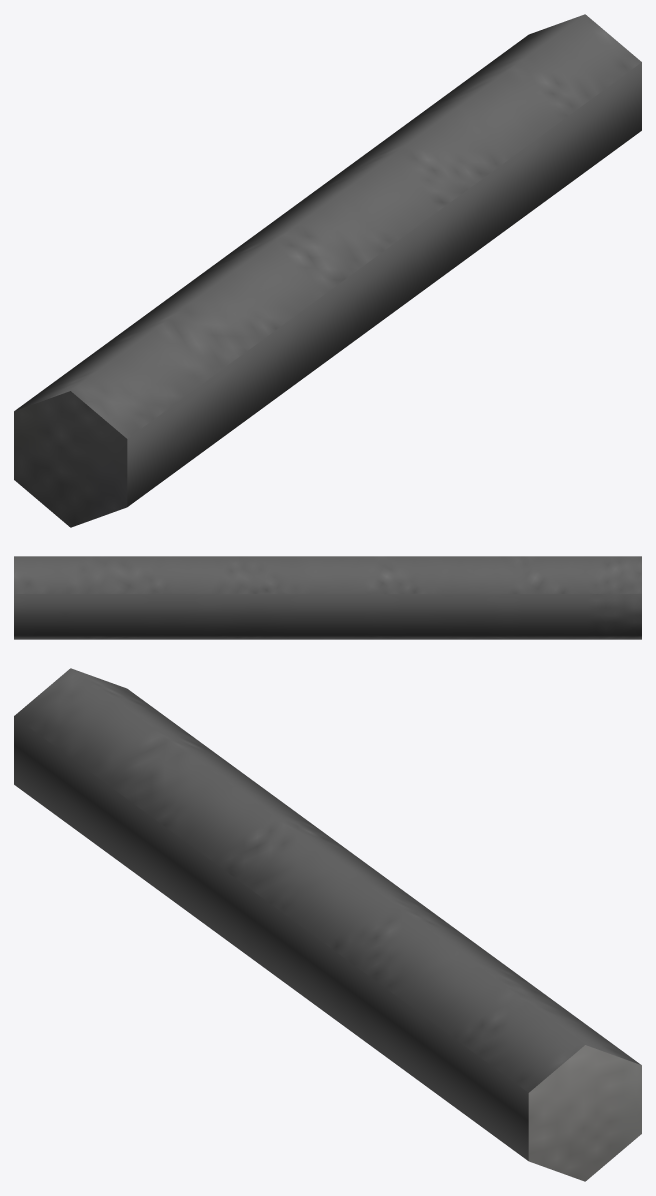
File: iron-stick.glb
3 views of the same model, one above another, from view 1: azimuth 30°, elevation 25°; view 2: azimuth 150°, elevation 25°; view 3: azimuth 270°, elevation 25° (orthographic). The views are drawn at different scales.
Parts seen in each view (by area): view 1: iron-stick; view 2: iron-stick; view 3: iron-stick.
Boxes of the visible parts, box(x1,y1,x2,y2) form: iron-stick: box(14, 14, 641, 527); iron-stick: box(14, 556, 641, 639); iron-stick: box(14, 668, 641, 1181).
Size of the model in its own units: 0.2789 by 0.044 by 0.183.
1 material, 1 textured.
